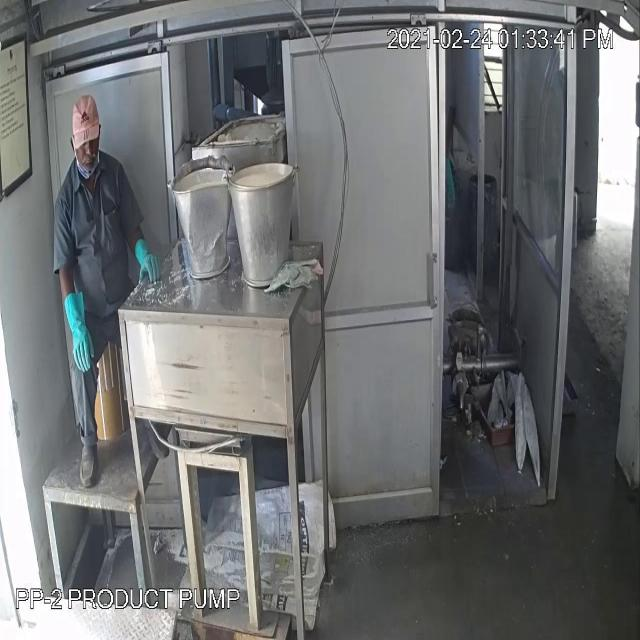no-helmet: (64, 84, 108, 154)
